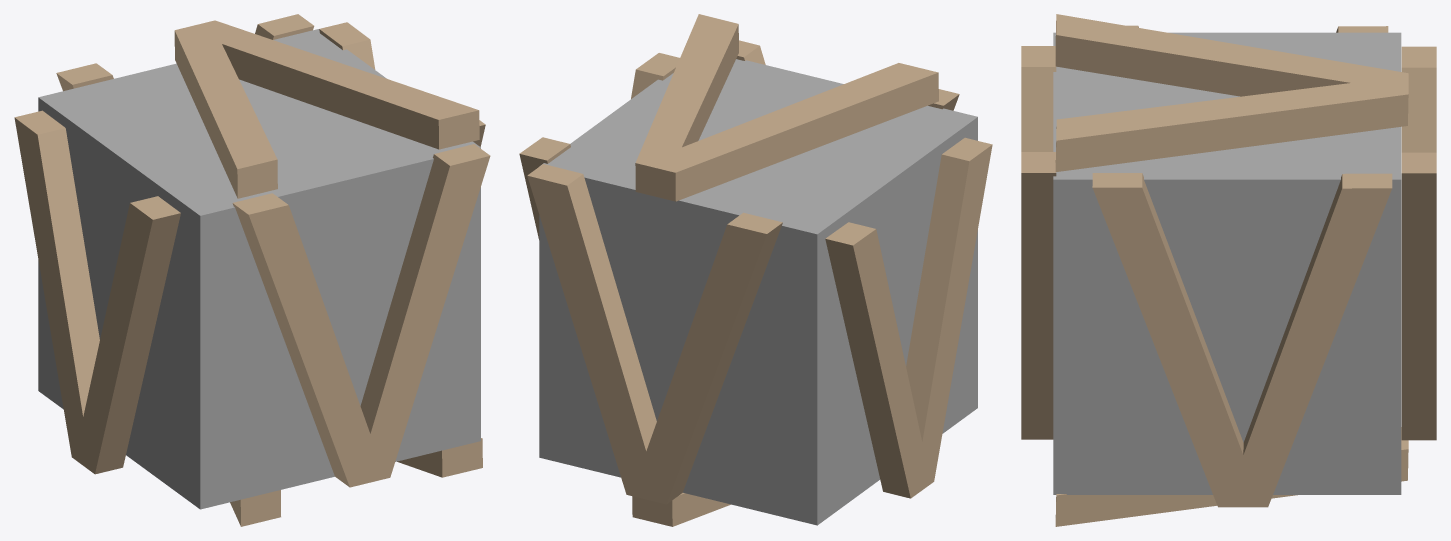
File: LetterV.fbx
The picture shows the model from 3 angles, left to right: view 1: azimuth 30°, elevation 25°; view 2: azimuth 150°, elevation 25°; view 3: azimuth 270°, elevation 25°; orthographic projection. The views are drawn at different scales.
Visible parts, largest first — view 1: Box, Text Front, Text Left, Text Top, Text Bottom, Text Back, Text Right; view 2: Box, Text Back, Text Left, Text Top, Text Right, Text Bottom, Text Front; view 3: Box, Text Right, Text Top, Text Back, Text Front, Text Bottom.
Part boxes in pixels (x1,y1,x2,y2): Box: [38, 29, 480, 509]; Text Front: [232, 144, 490, 487]; Text Left: [14, 110, 180, 474]; Text Top: [174, 20, 479, 198]; Text Bottom: [230, 438, 482, 526]; Text Back: [56, 14, 314, 91]; Text Right: [319, 22, 485, 146]; Box: [539, 59, 977, 525]; Text Back: [527, 164, 782, 504]; Text Left: [825, 137, 992, 498]; Text Top: [635, 14, 938, 201]; Text Right: [519, 53, 679, 239]; Text Bottom: [632, 493, 730, 526]; Text Front: [736, 40, 959, 110]; Box: [1053, 32, 1401, 494]; Text Right: [1092, 173, 1392, 507]; Text Top: [1055, 14, 1408, 171]; Text Back: [1401, 46, 1436, 440]; Text Front: [1021, 46, 1056, 439]; Text Bottom: [1055, 427, 1408, 526].
Bounding box in the file's own units: 1.2 × 1.24 × 1.19.
